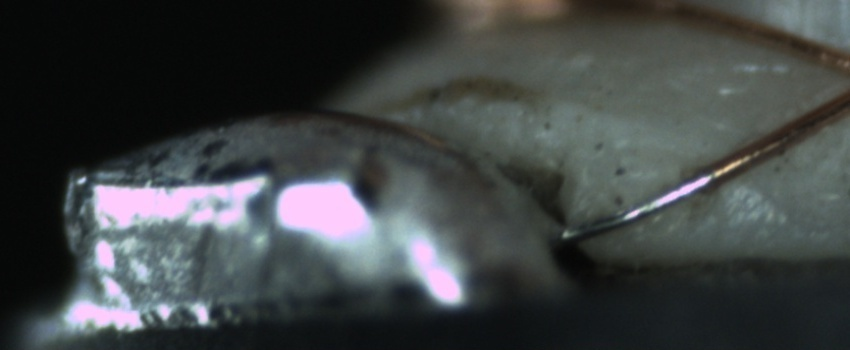TS: (561, 169, 714, 241)
